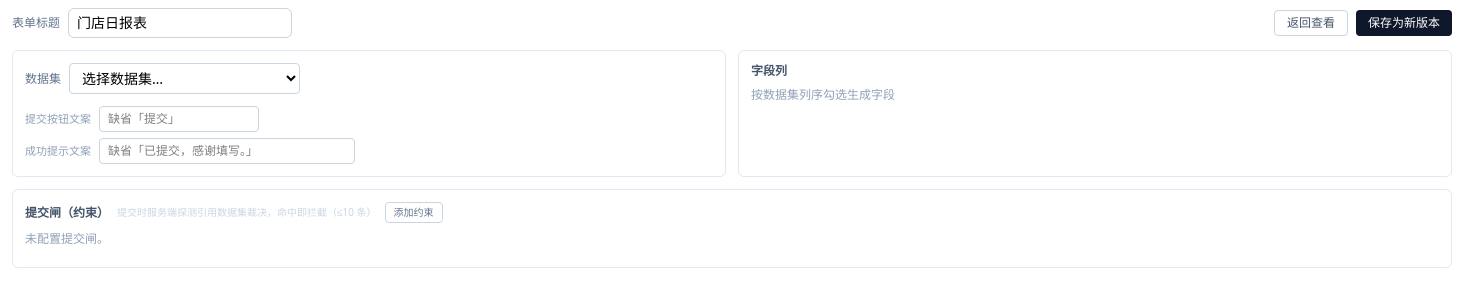
Test: FormEditor（构建器） › 未绑数据集保存允许（构建中间态）：PUT 落 datasetId=null + 零字段
Click the button with test id "editor-form-save" at (1404, 23), box [1356,10,1452,36]
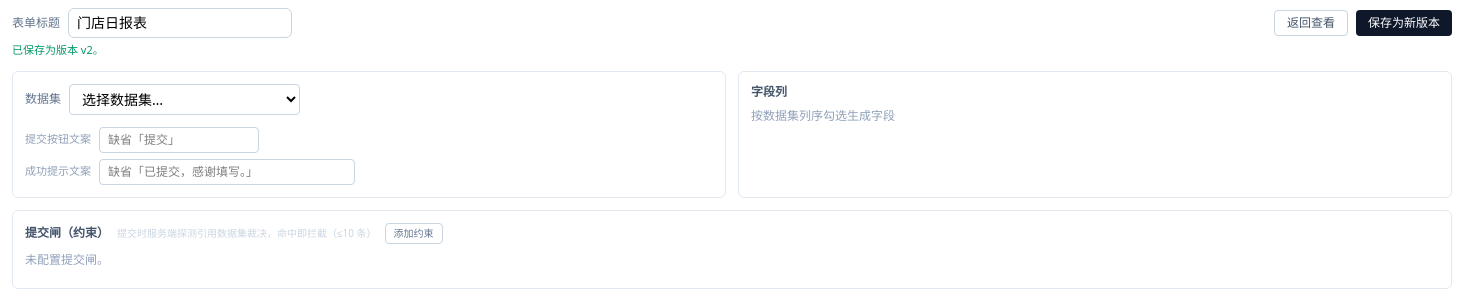
expect the text with test id "editor-form-saved-version" shows "v2": met, box [12,42,104,57]
